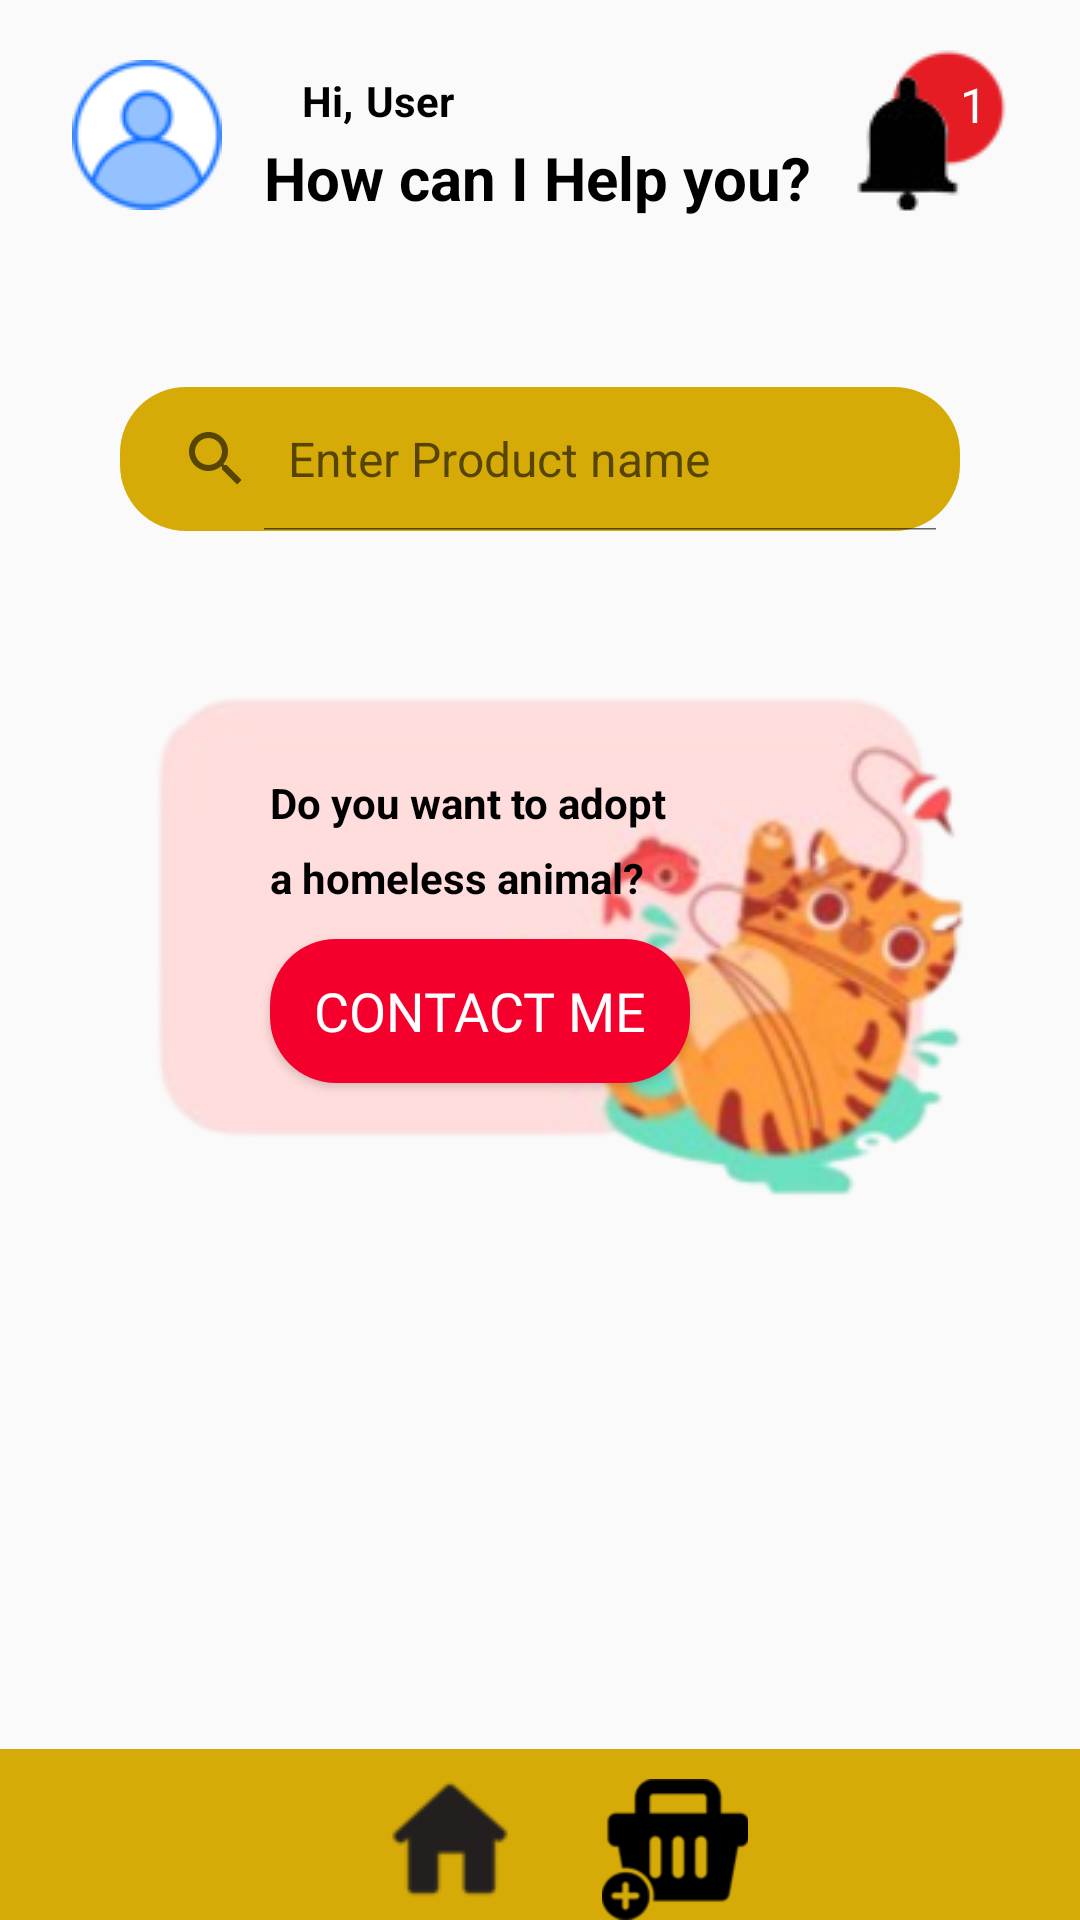

Named icons in this screenshot (1080px x 1920px) and their centers, (x,y):
bells: (908,141)
homebtn: (450,1839)
keranjang: (675,1849)
